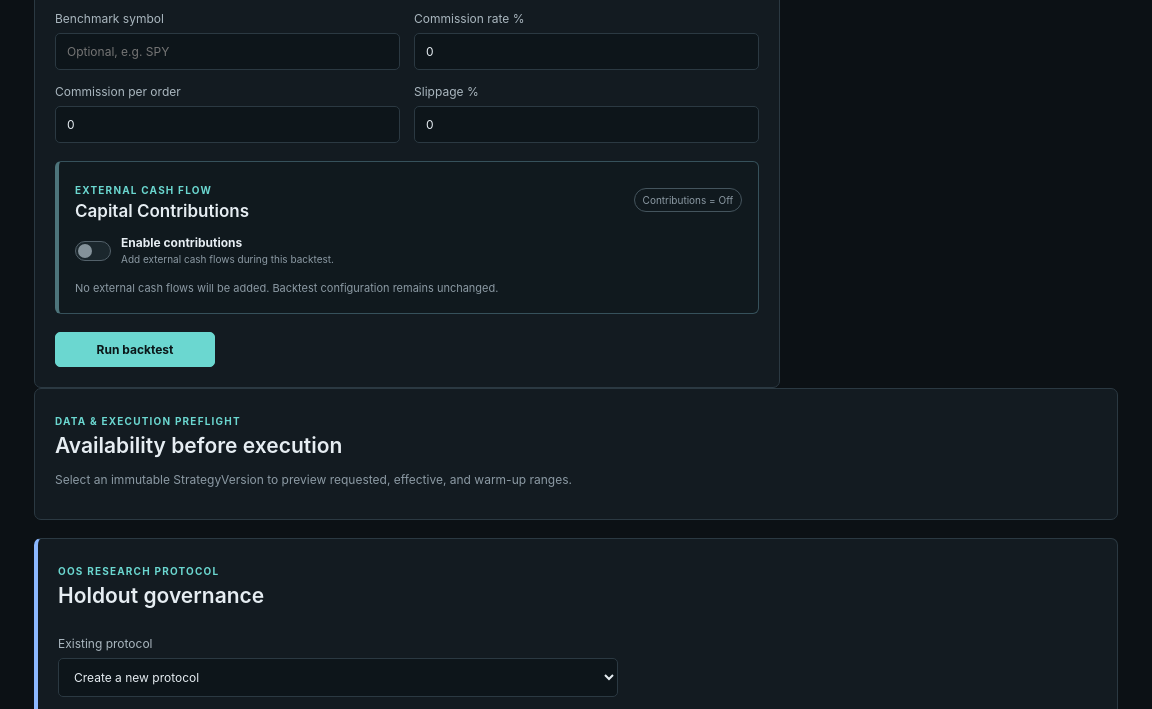
Test case: Backtest Lab › keeps report summary available when the series endpoint fails
(page scrolled)
Click the button "Run backtest" at (135,349), box [55,332,215,366]
(page scrolled)
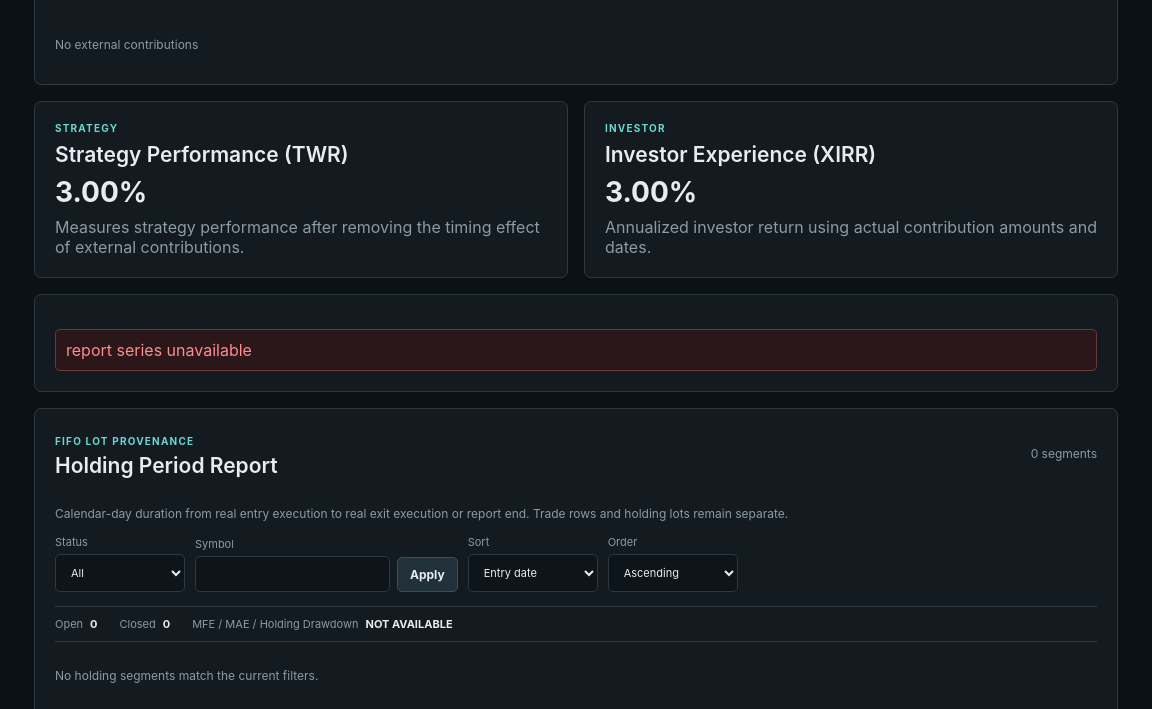
Expected: the text "report series unavailable" is shown, [55,328,1097,370]
